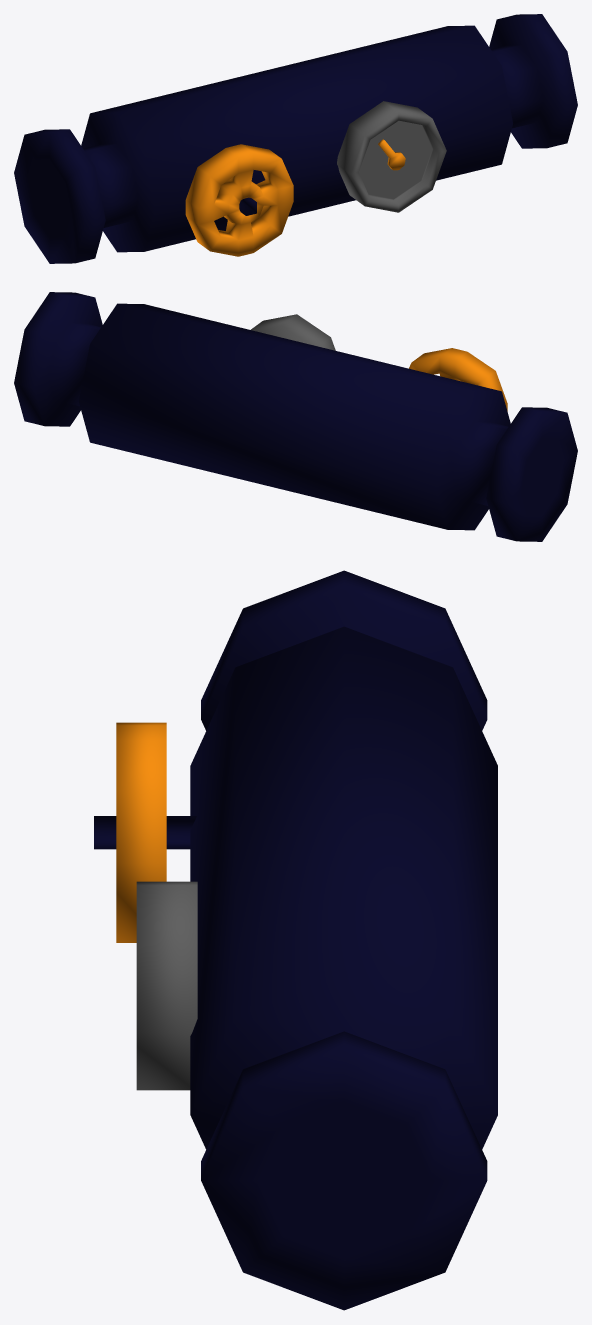
File: Pipe_Arranger.fbx
3 views of the same model, one above another, from view 1: azimuth 30°, elevation 25°; view 2: azimuth 150°, elevation 25°; view 3: azimuth 270°, elevation 25° (orthographic). The views are drawn at different scales.
Visible parts, largest first — view 1: Cylinder.008; view 2: Cylinder.008; view 3: Cylinder.008.
Boxes of the visible parts, box(x1,y1,x2,y2) form: Cylinder.008: box(14, 14, 577, 263); Cylinder.008: box(14, 292, 577, 541); Cylinder.008: box(94, 570, 497, 1310).
Bounding box in the file's own units: 261 × 70.7 × 92.85.
